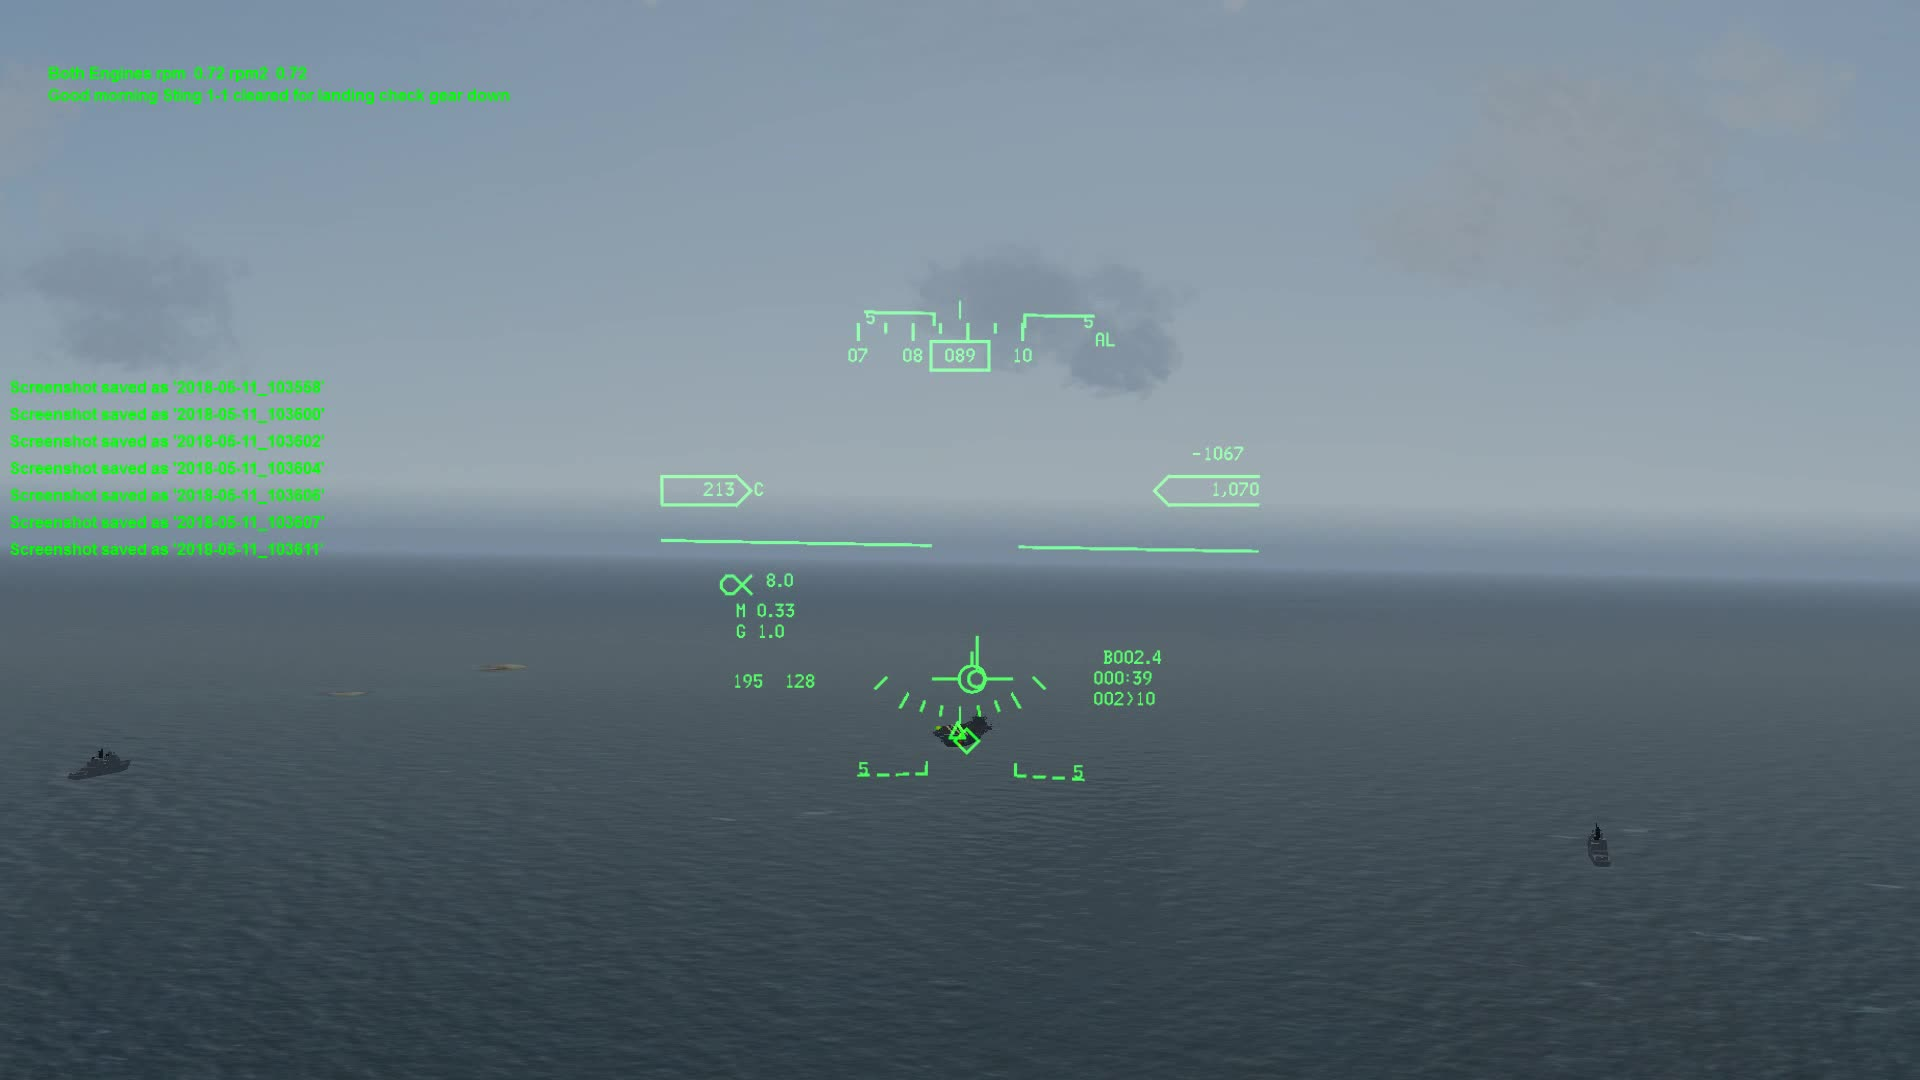speed vector: (923, 616, 1030, 696)
